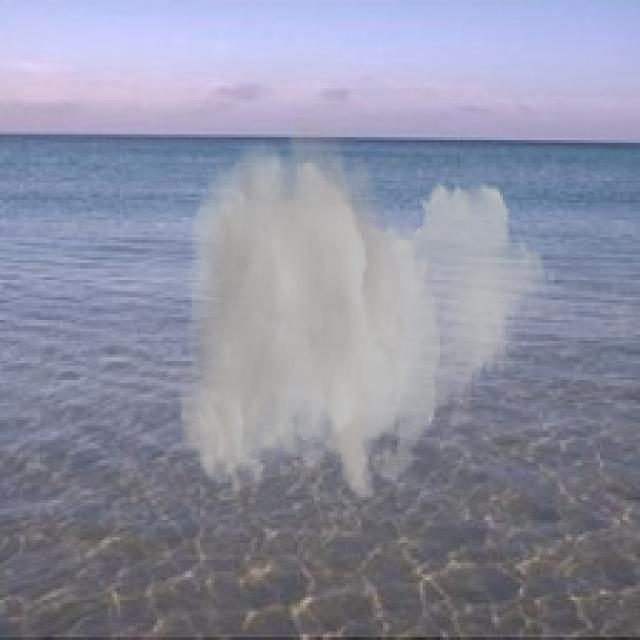Smoke: (177, 94, 557, 503)
